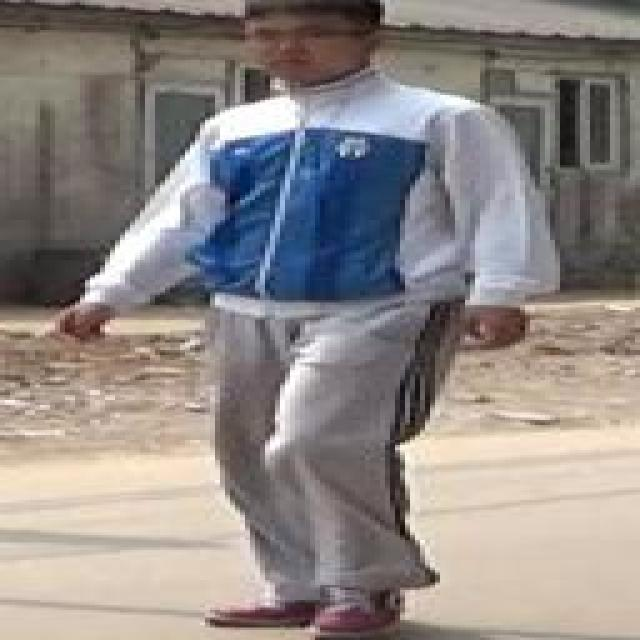adult: (76, 0, 556, 633)
